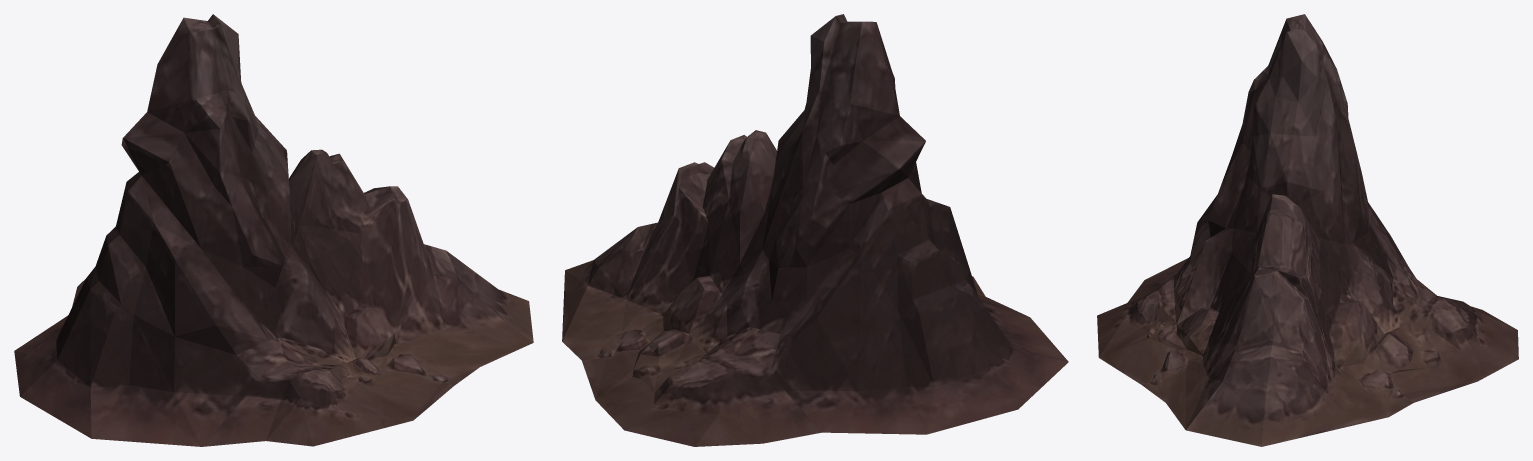
The model's file is sysd_stone04.FBX.
3 views of the same model, side by side, from view 1: azimuth 30°, elevation 25°; view 2: azimuth 150°, elevation 25°; view 3: azimuth 270°, elevation 25° (orthographic). The views are drawn at different scales.
Visible parts, largest first — view 1: sysd_stone04; view 2: sysd_stone04; view 3: sysd_stone04.
Boxes of the visible parts, x1,y1,x2,y2 form: sysd_stone04: [14, 14, 533, 446]; sysd_stone04: [562, 14, 1068, 446]; sysd_stone04: [1097, 14, 1518, 446].
Size of the model in its own units: 673 by 460 by 591.
Materials: 1 (1 with a texture image).
